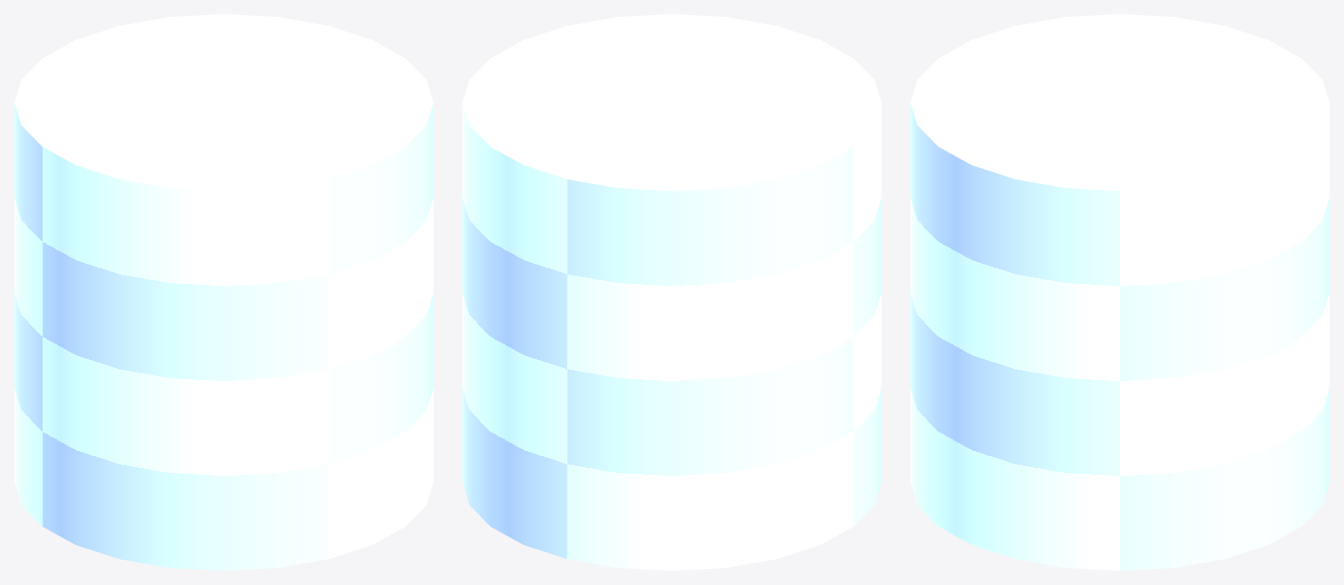
The picture shows the model from 3 angles, left to right: view 1: azimuth 30°, elevation 25°; view 2: azimuth 150°, elevation 25°; view 3: azimuth 270°, elevation 25°; orthographic projection.
Visible parts, largest first — view 1: Cylinder; view 2: Cylinder; view 3: Cylinder.
Part boxes in pixels (x1,y1,x2,y2): Cylinder: (14, 14, 433, 570); Cylinder: (462, 14, 881, 570); Cylinder: (910, 14, 1329, 570).
Size of the model in its own units: 1 by 1 by 1.
